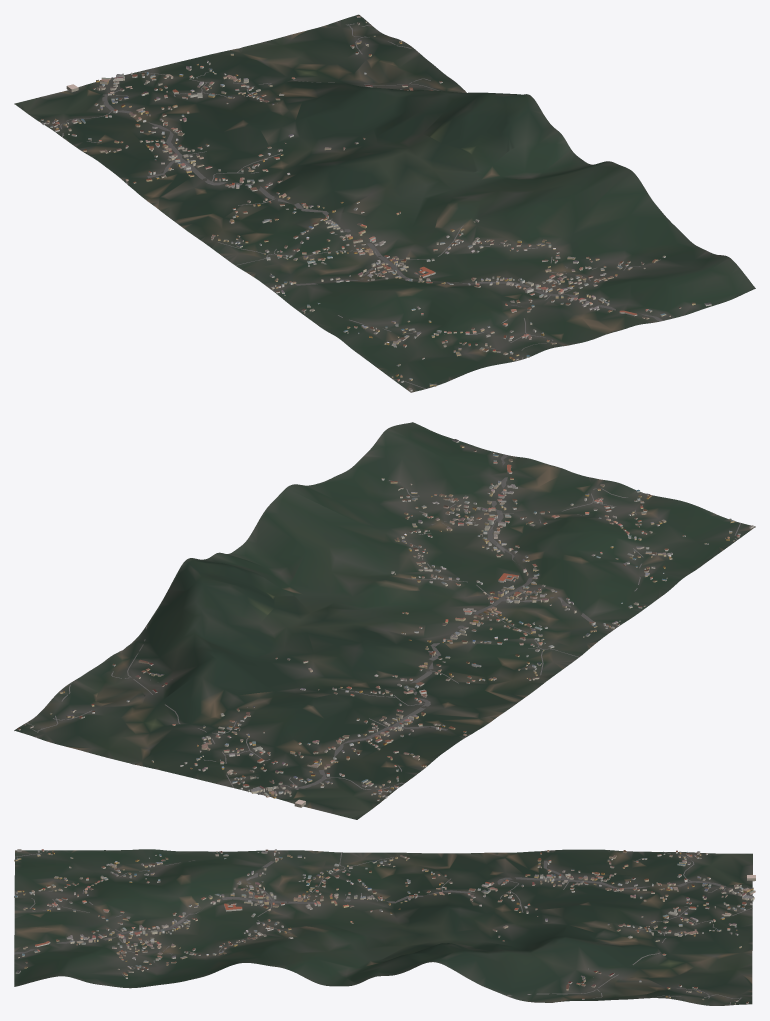
3 views of the same model, one above another, from view 1: azimuth 30°, elevation 25°; view 2: azimuth 150°, elevation 25°; view 3: azimuth 270°, elevation 25° (orthographic). The views are drawn at different scales.
Visible parts, largest first — view 1: ground, buildings, roads; view 2: ground, buildings, roads; view 3: ground, buildings, roads.
Boxes of the visible parts, bbox=[...] form: ground: bbox=[14, 14, 755, 392]; buildings: bbox=[41, 15, 711, 391]; roads: bbox=[60, 21, 663, 388]; ground: bbox=[14, 422, 755, 819]; buildings: bbox=[17, 439, 753, 807]; roads: bbox=[27, 454, 740, 795]; ground: bbox=[14, 849, 752, 1005]; buildings: bbox=[14, 849, 755, 1004]; roads: bbox=[14, 850, 753, 1005].
Size of the model in its own units: 1407 by 200 by 2819.
